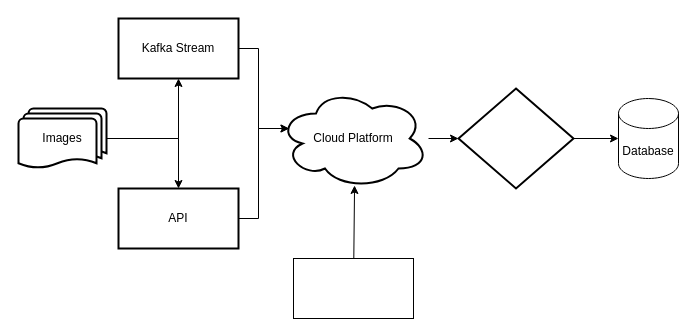
The diagram is 696 pixels wide and 336 high, and some of its shapes have lost their labels. The centre of each missing label's shape, as x and y in pixels:
"Image Processing" belongs at point 515,138.
"Scheduled Data Cleanse" belongs at point 353,288.
